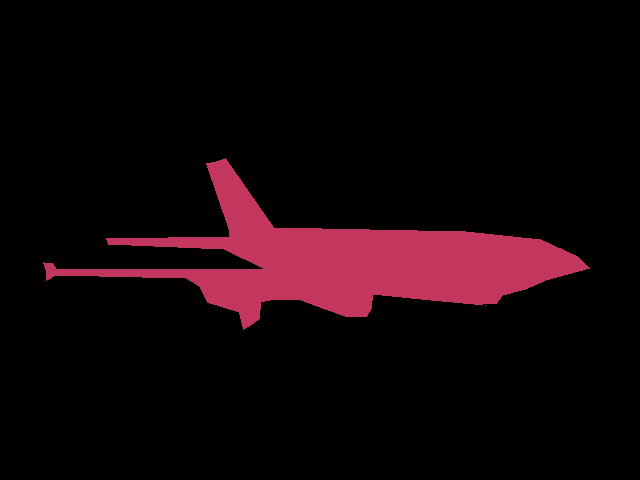Airplane: (43, 158, 589, 329)
